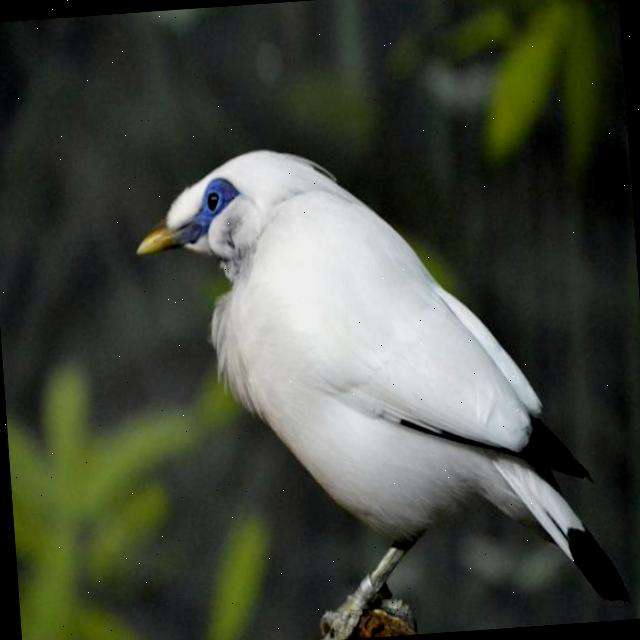Jalak Bali: (102, 72, 640, 640)
